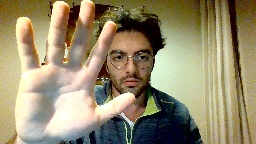Mano_aperta: (10, 0, 137, 144)
